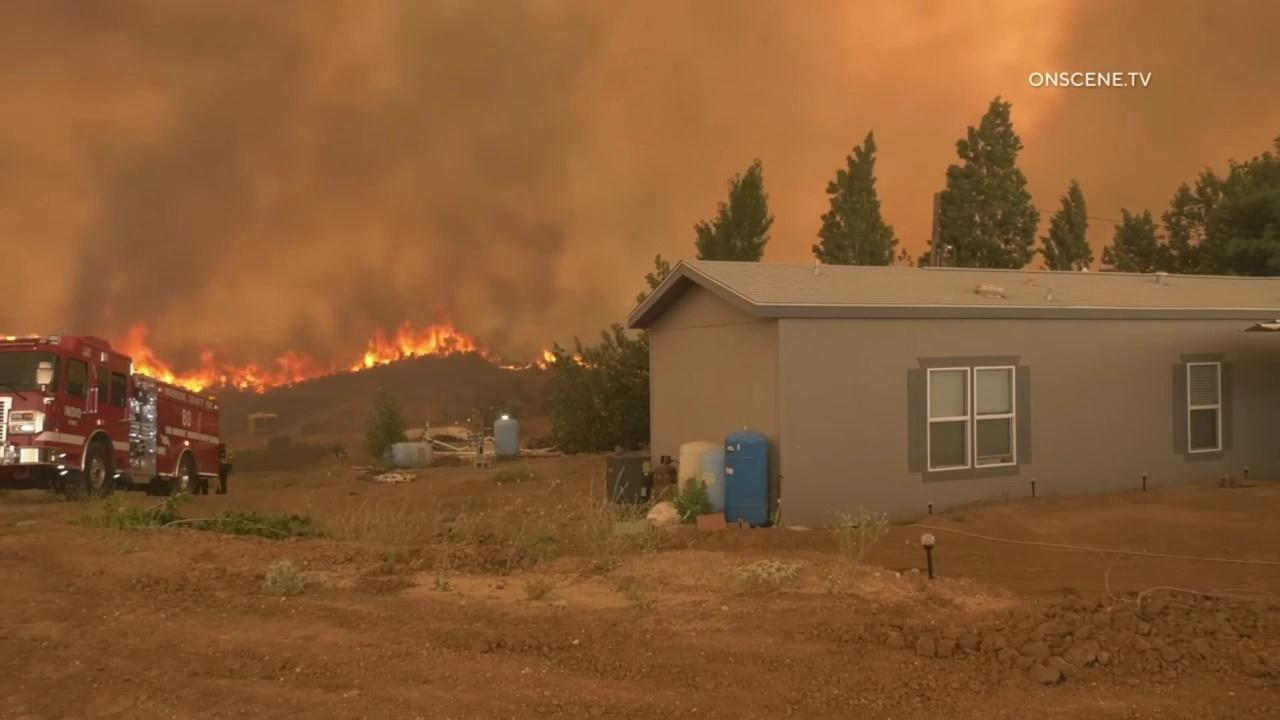fire: (109, 313, 479, 396), (537, 348, 557, 371), (496, 362, 533, 371), (572, 353, 592, 369), (481, 345, 494, 362)
smoke: (0, 0, 1280, 325)
